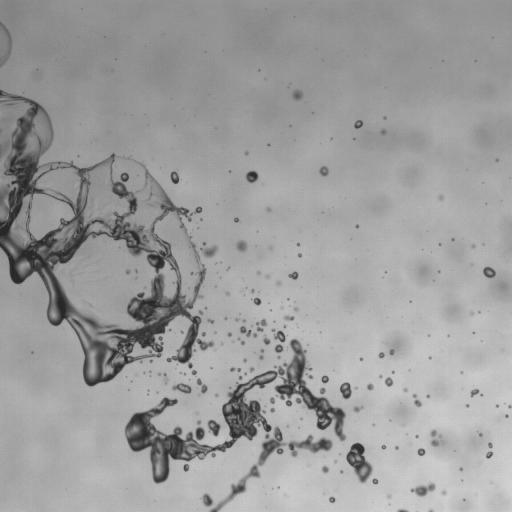droplet: (200, 245, 218, 258), (340, 382, 351, 399), (430, 429, 441, 446), (196, 378, 207, 393), (246, 170, 258, 182), (483, 266, 495, 277), (256, 319, 267, 331), (236, 240, 247, 251), (170, 171, 179, 183), (292, 90, 302, 100), (319, 166, 328, 176), (289, 271, 298, 279), (385, 377, 393, 386), (283, 315, 294, 321), (354, 120, 362, 128), (253, 297, 261, 305), (263, 335, 270, 344), (470, 389, 479, 396), (321, 375, 328, 383), (417, 448, 425, 455), (485, 450, 492, 458), (353, 406, 362, 412), (321, 466, 328, 473), (367, 383, 373, 390), (378, 352, 384, 358), (372, 478, 378, 484), (329, 496, 335, 502), (270, 397, 275, 404), (438, 195, 443, 200), (125, 269, 130, 274), (389, 349, 394, 354), (249, 367, 254, 372), (441, 490, 446, 495), (381, 129, 385, 134), (234, 217, 238, 222), (276, 281, 281, 285), (208, 319, 213, 323), (270, 407, 274, 412), (488, 443, 492, 448), (265, 274, 269, 278), (225, 291, 229, 295), (294, 307, 298, 311), (201, 332, 205, 336), (227, 332, 231, 336), (381, 445, 385, 449), (387, 494, 391, 498), (267, 207, 270, 211), (470, 311, 473, 315), (403, 388, 406, 392), (426, 394, 429, 398), (298, 253, 301, 256), (134, 269, 137, 272), (257, 271, 260, 274), (190, 272, 193, 275), (251, 289, 254, 292), (235, 318, 238, 321), (242, 319, 245, 322), (283, 325, 286, 328), (508, 405, 511, 408), (244, 152, 248, 154), (472, 244, 474, 248), (215, 393, 217, 397), (355, 225, 358, 227), (297, 243, 299, 246), (243, 359, 246, 361), (360, 358, 363, 360), (379, 375, 382, 377), (466, 404, 468, 407), (505, 415, 508, 417), (478, 433, 481, 435), (415, 435, 418, 437), (18, 225, 20, 227), (227, 267, 229, 269), (144, 287, 146, 289), (90, 304, 92, 306), (182, 372, 184, 374), (496, 405, 498, 407), (395, 446, 397, 448), (334, 460, 336, 462), (460, 468, 462, 470)
ligament: (0, 89, 214, 386), (124, 338, 345, 511), (345, 442, 373, 483), (0, 22, 11, 67), (272, 328, 286, 358), (410, 483, 435, 496), (172, 383, 191, 393), (240, 326, 257, 337), (413, 394, 421, 407), (259, 349, 264, 359), (163, 373, 168, 383), (238, 338, 244, 345), (230, 367, 240, 371), (397, 509, 408, 511), (428, 509, 434, 511)
